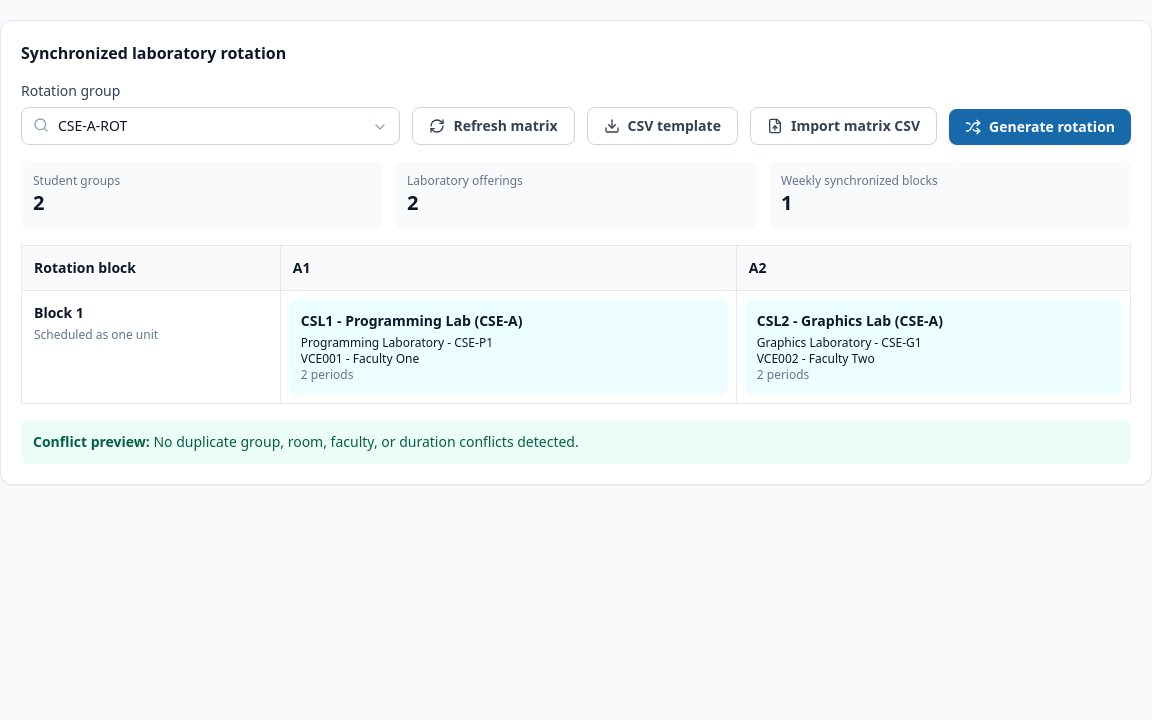
Scenario: RotationMatrixManager › limits rotation assignment editing to the offering restricted subset
Click the button "CSL1 - Programming Lab".
click(412, 320)  # box [289,299,728,395]
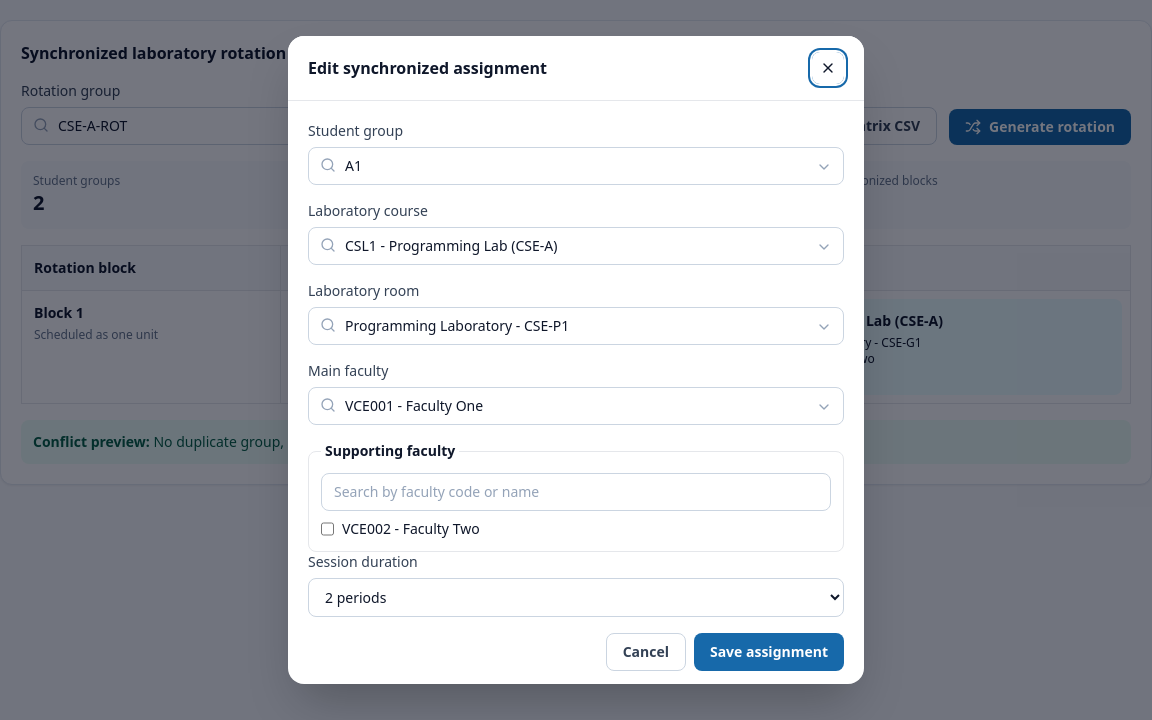
Click the dropdown labelled "Laboratory room".
click(576, 326)  # box [308,307,844,345]
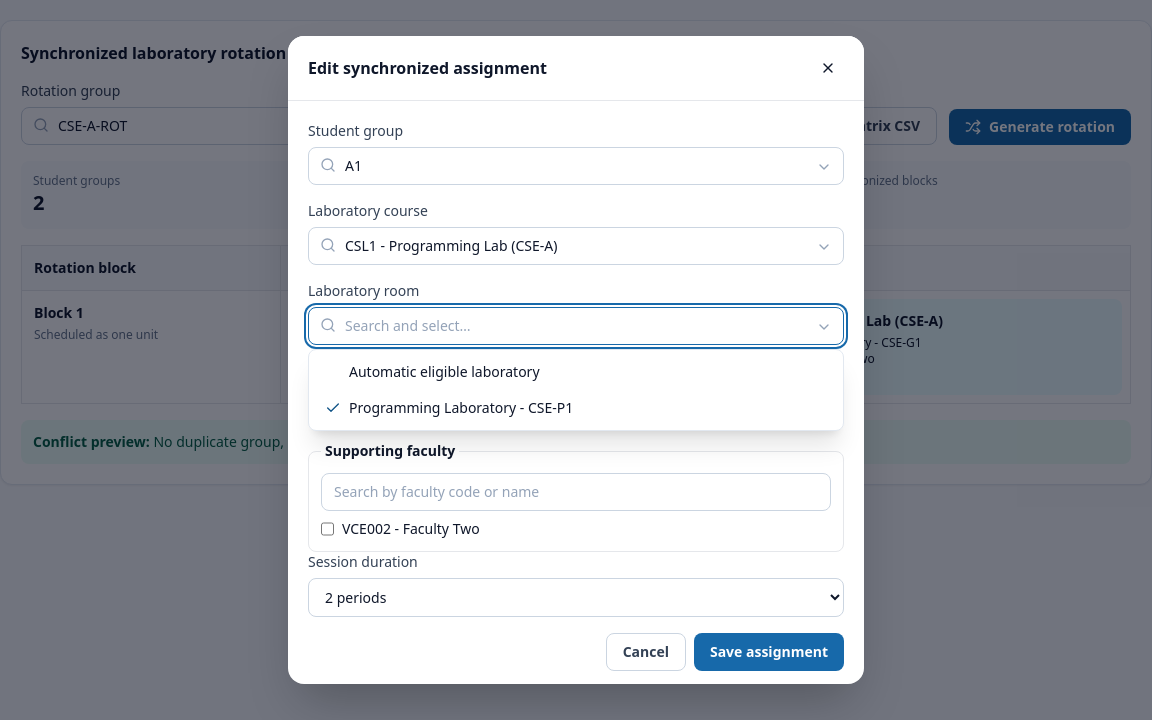
Expected: the option "Programming Laboratory - CSE-P1" is shown, [313,390,839,426]
